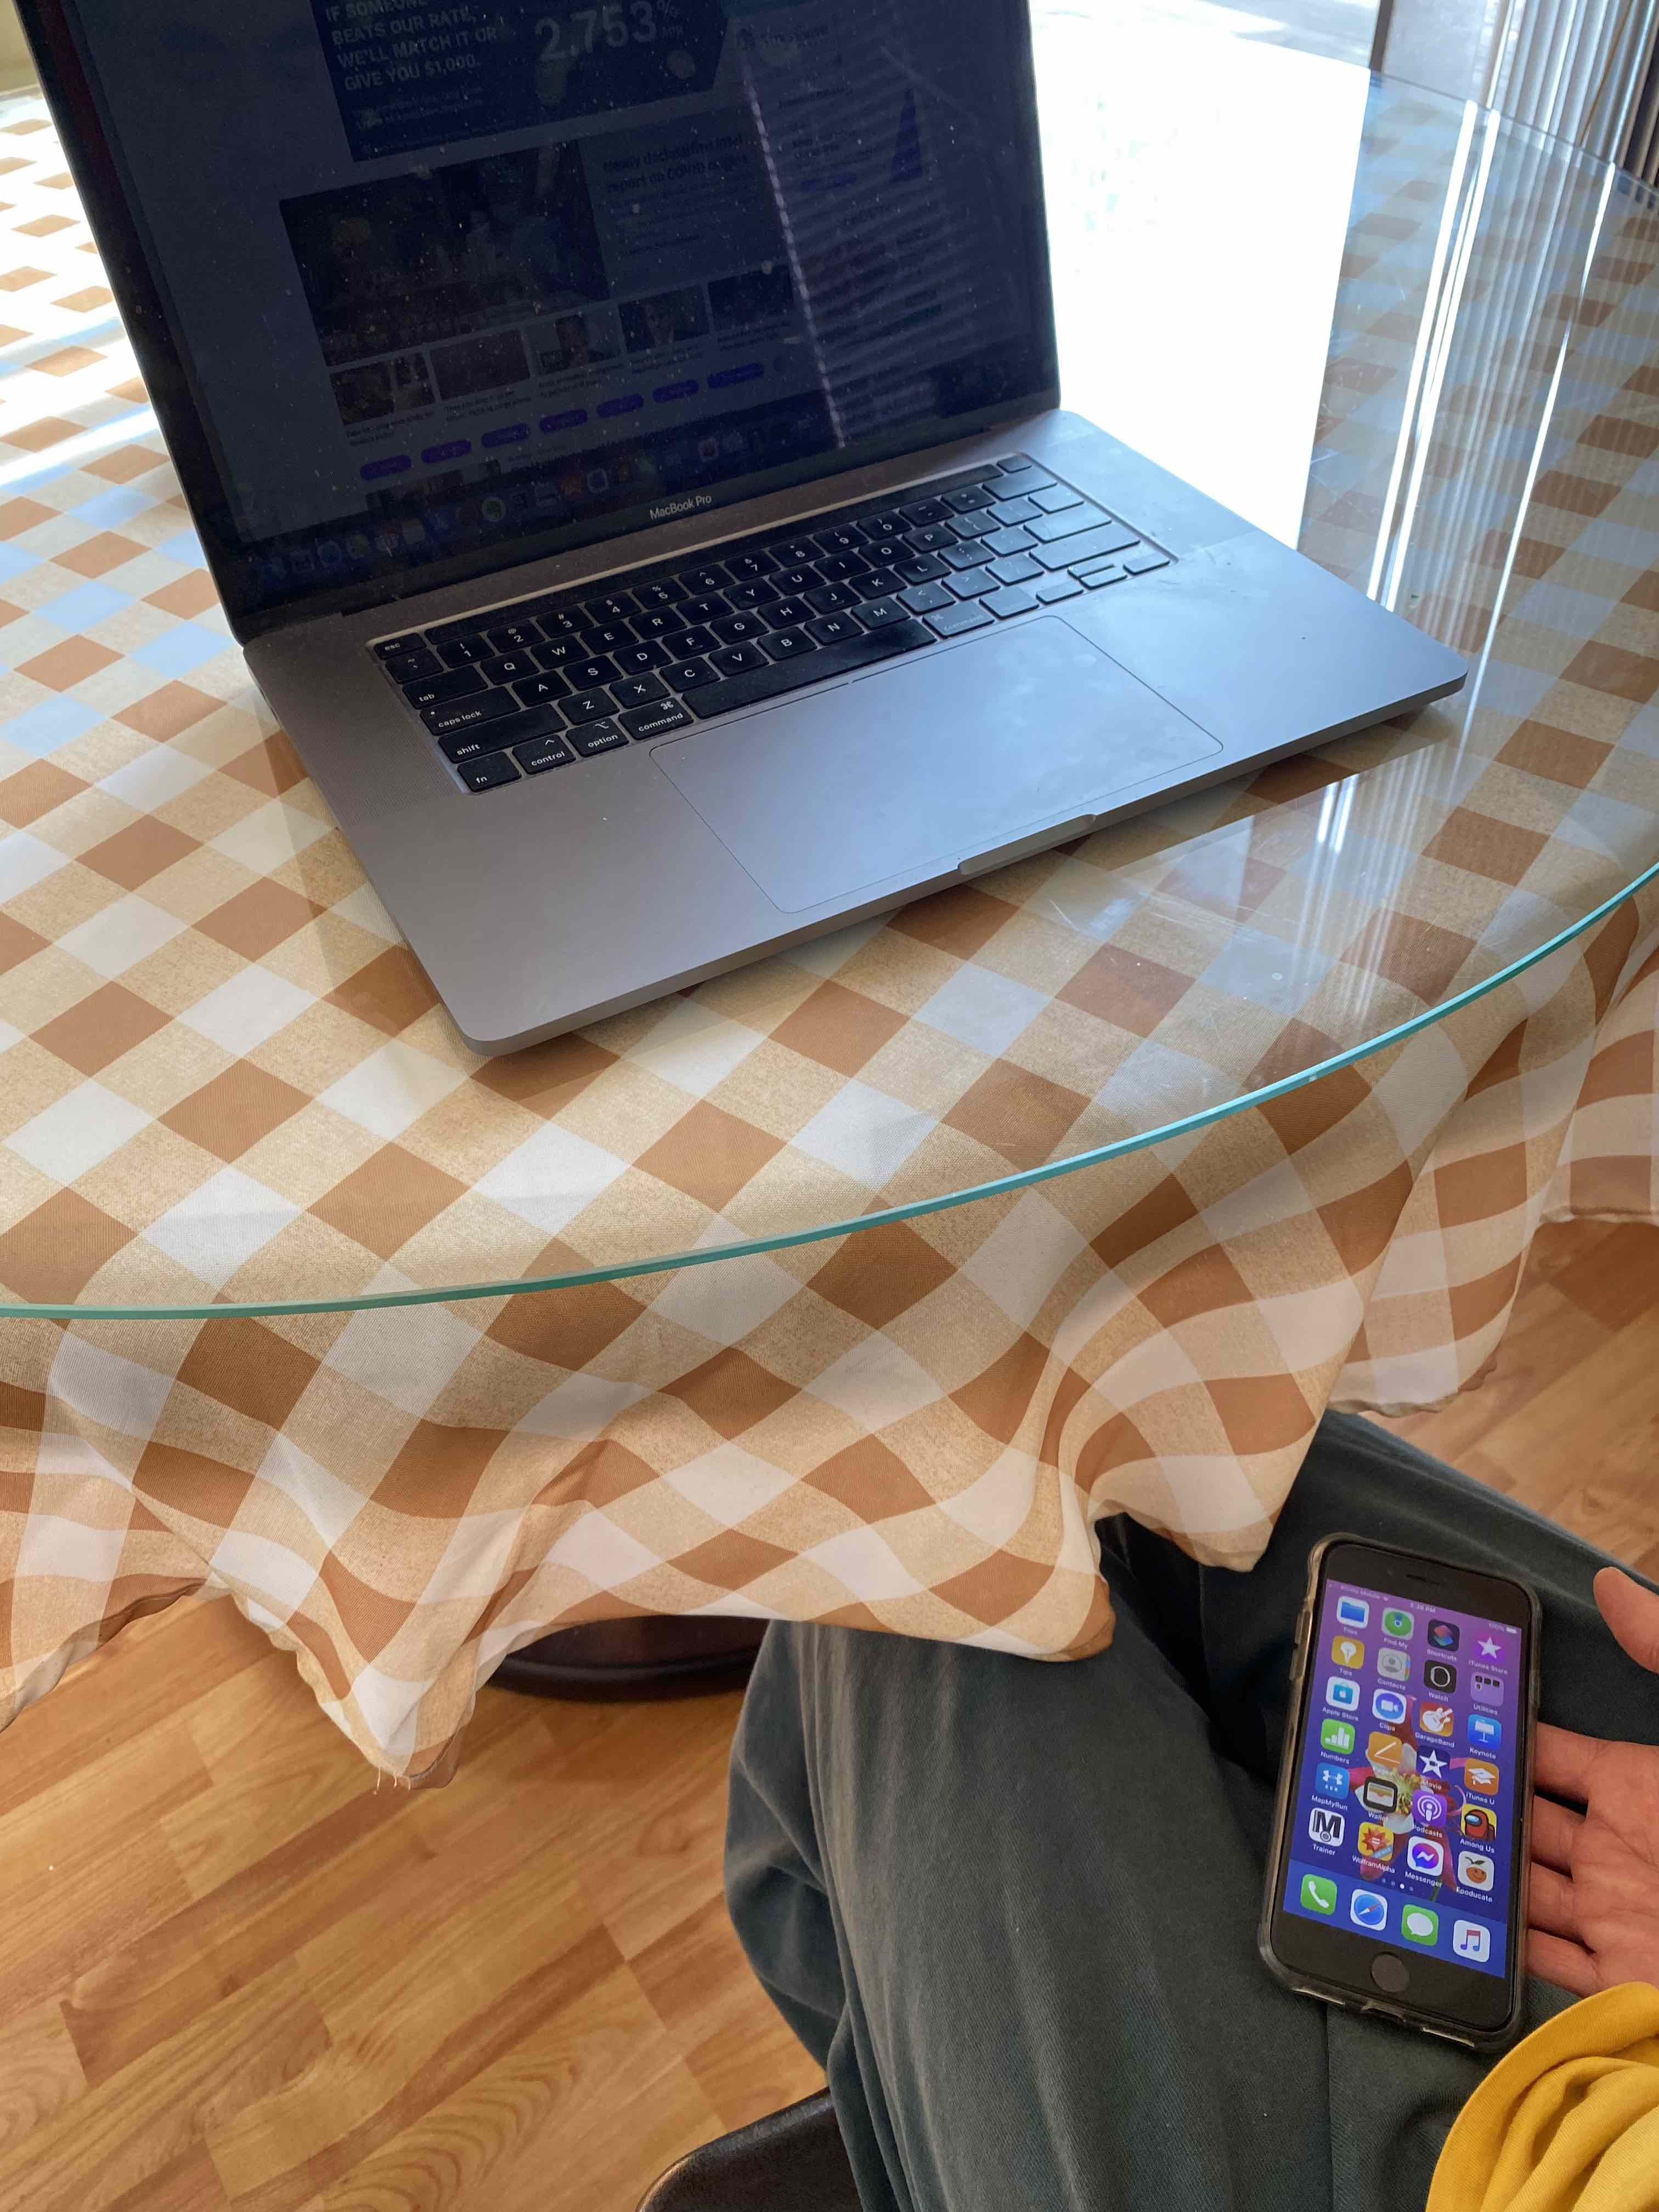Cell Phone: (1251, 1534, 1541, 2059)
